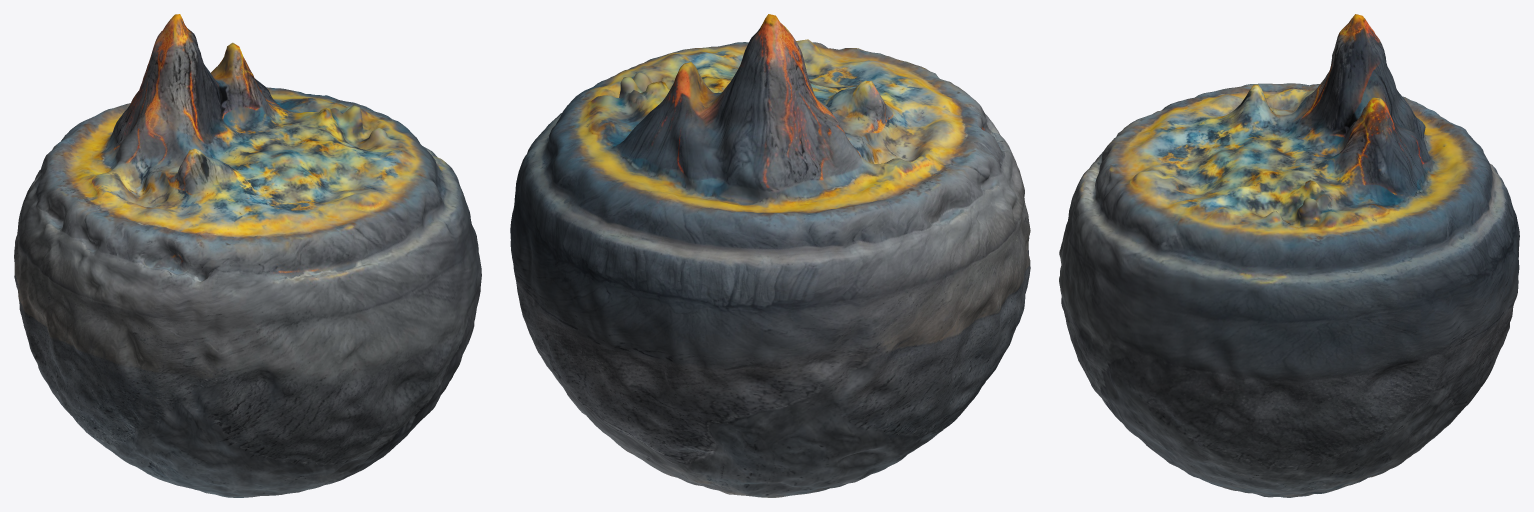
The model's file is create_a_small_circul_0715140930_refine.fbx.
The picture shows the model from 3 angles, left to right: view 1: azimuth 30°, elevation 25°; view 2: azimuth 150°, elevation 25°; view 3: azimuth 270°, elevation 25°; orthographic projection. The views are drawn at different scales.
Visible parts, largest first — view 1: Mesh_0; view 2: Mesh_0; view 3: Mesh_0.
Boxes of the visible parts, box(x1,y1,x2,y2) form: Mesh_0: box(14, 14, 481, 497); Mesh_0: box(510, 14, 1030, 497); Mesh_0: box(1059, 14, 1519, 497).
Size of the model in its own units: 114 by 120 by 113.
Materials: 1 (1 with a texture image).
